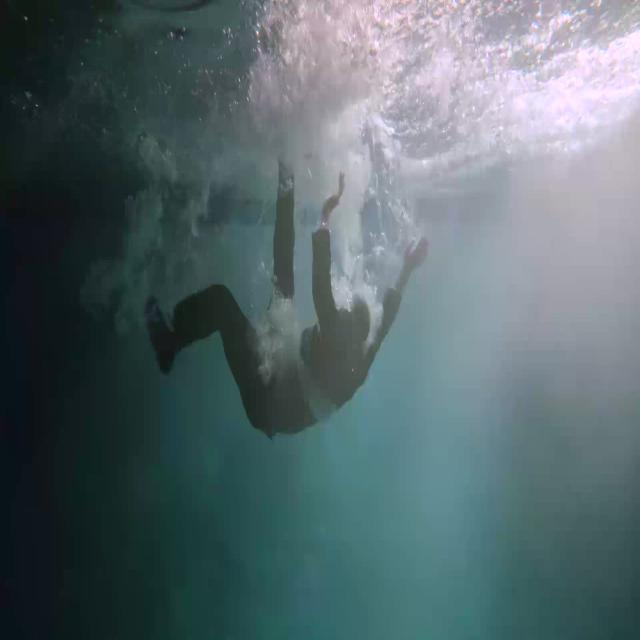drowning: (91, 119, 470, 476)
